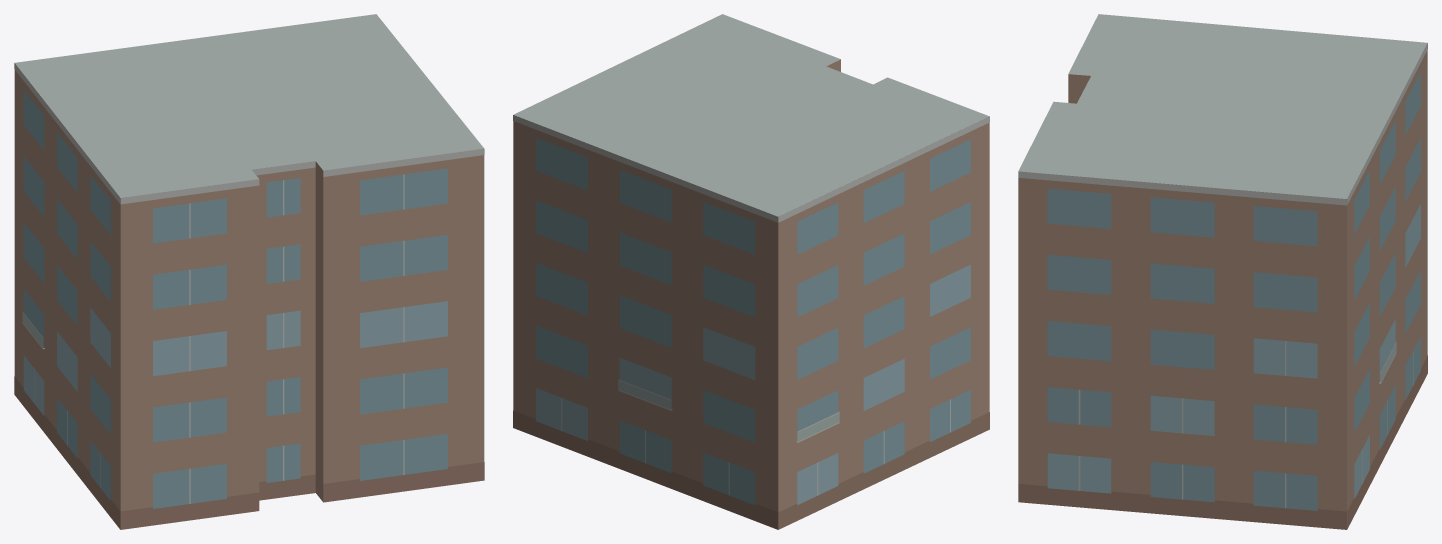
Rendered from survey-upis-32652856.glb.
3 renders of one model, left to right at view 1: azimuth 30°, elevation 25°; view 2: azimuth 150°, elevation 25°; view 3: azimuth 270°, elevation 25°, orthographic. The views are drawn at different scales.
Visible parts, largest first — view 1: survey-upis-32652856.tmp; view 2: survey-upis-32652856.tmp; view 3: survey-upis-32652856.tmp.
Part boxes in pixels (<box>): survey-upis-32652856.tmp: <box>14,14,484,529</box>; survey-upis-32652856.tmp: <box>513,14,989,529</box>; survey-upis-32652856.tmp: <box>1018,14,1427,529</box>.
Bounding box in the file's own units: 15.25 × 12.7 × 14.26.
